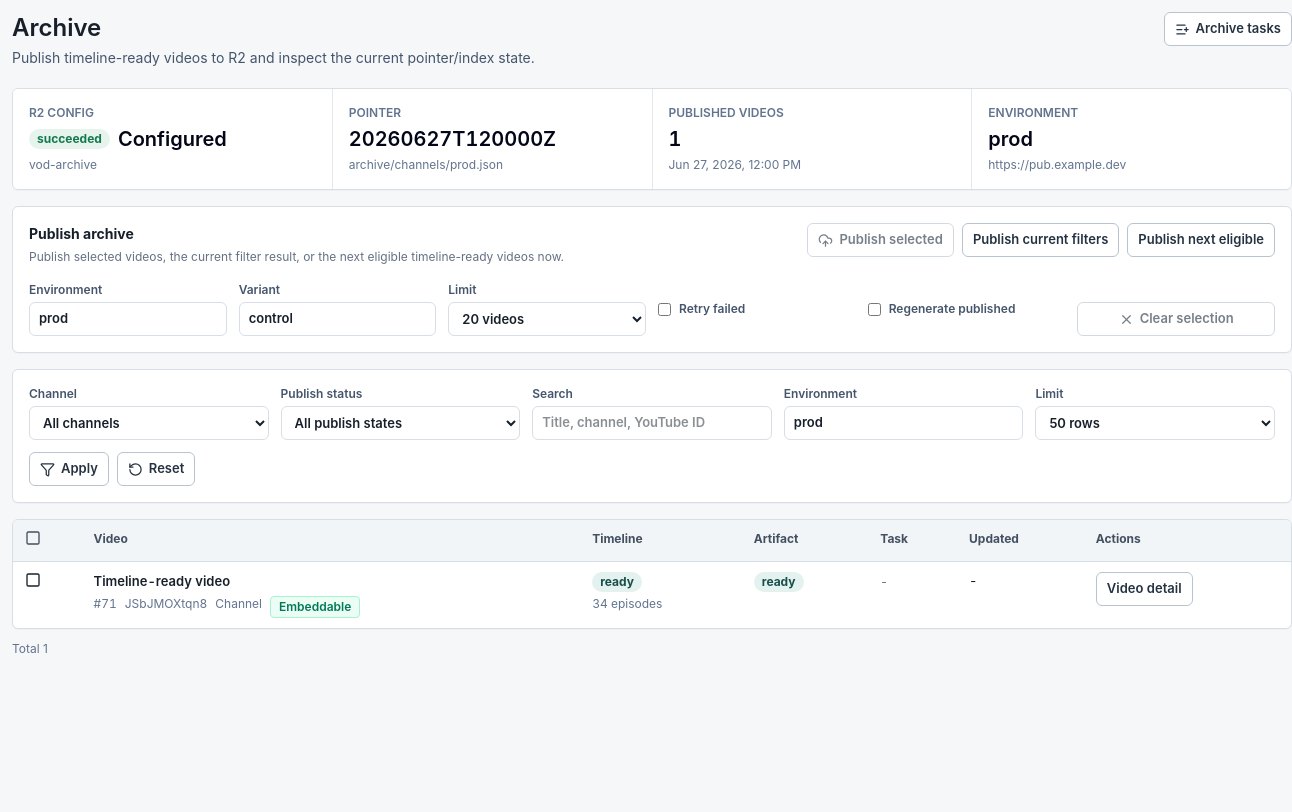
Scenario: ArchivePage › renders publish result summaries
This screenshot has width=1292, height=812.
Click the button "Publish next eligible" at (1201, 240), box [1127,223,1275,257]
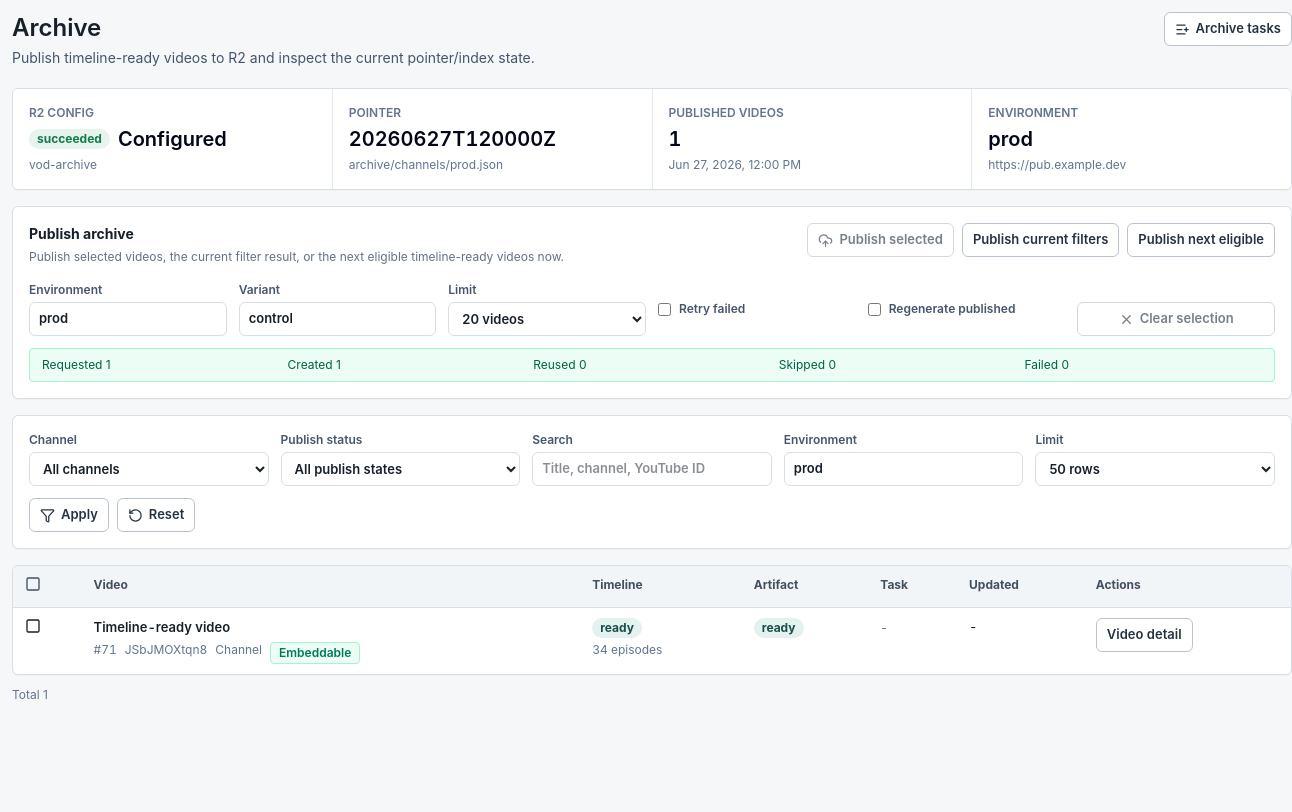
Expected: the text "Created 1" is shown, [288,357,341,372]
